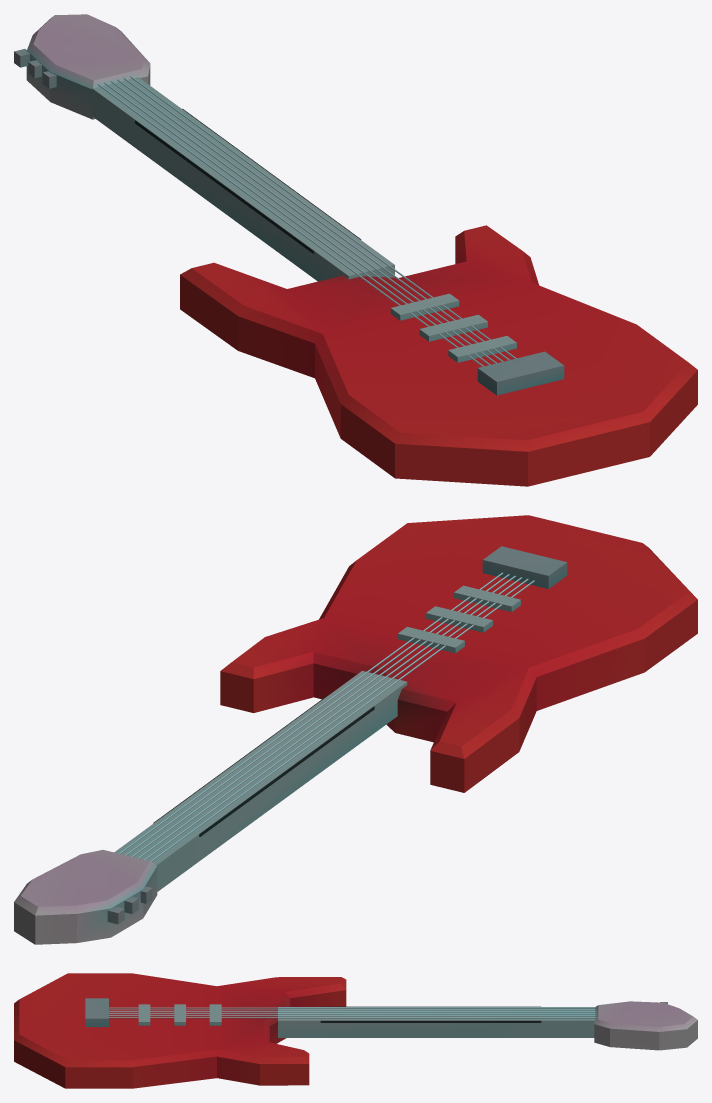
3 views of the same model, one above another, from view 1: azimuth 30°, elevation 25°; view 2: azimuth 150°, elevation 25°; view 3: azimuth 270°, elevation 25° (orthographic). The views are drawn at different scales.
Visible parts, largest first — view 1: body, neck, head, bridge, fingerboard, string.005, string.003, string.001, string.002, string.004, string.006, pickup.003 (+2 smaller); view 2: body, neck, head, bridge, fingerboard, string.005, string.006, string.003, string.001, string.002, string.004, pickup.003 (+2 smaller); view 3: body, neck, head, string.001, string.003, string.004, string.005, string.006, string.002, fingerboard, bridge, pickup.001 (+2 smaller).
Boxes of the visible parts, x1,y1,x2,y2 form: body: (180, 225, 697, 486); neck: (91, 77, 394, 281); head: (26, 14, 150, 119); bridge: (477, 351, 564, 395); fingerboard: (135, 108, 361, 253); string.005: (123, 77, 509, 360); string.003: (110, 80, 496, 363); string.001: (97, 83, 483, 366); string.002: (104, 82, 490, 364); string.004: (117, 79, 503, 361); string.006: (130, 76, 516, 358); pickup.003: (390, 293, 459, 320); body: (220, 515, 697, 792); neck: (114, 671, 407, 891); head: (14, 850, 157, 944); bridge: (482, 546, 567, 588); fingerboard: (153, 695, 374, 836); string.005: (125, 574, 509, 855); string.006: (118, 572, 503, 853); string.003: (138, 577, 521, 858); string.001: (150, 580, 534, 861); string.002: (144, 578, 528, 859); string.004: (131, 575, 515, 856); pickup.003: (397, 626, 464, 653); body: (14, 973, 346, 1088); neck: (278, 1007, 594, 1037); head: (594, 1001, 697, 1050); string.001: (109, 1007, 596, 1008); string.003: (109, 1011, 596, 1012); string.004: (109, 1013, 596, 1014); string.005: (109, 1015, 596, 1016); string.006: (109, 1017, 596, 1018); string.002: (109, 1009, 595, 1010); fingerboard: (320, 1006, 541, 1022); bridge: (85, 998, 108, 1026); pickup.001: (138, 1004, 150, 1025).
Size of the model in its own units: 0.328 by 0.058 by 1.04.
